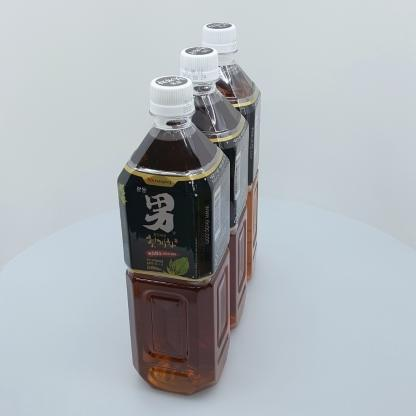----------1L: (117, 75, 231, 396)
